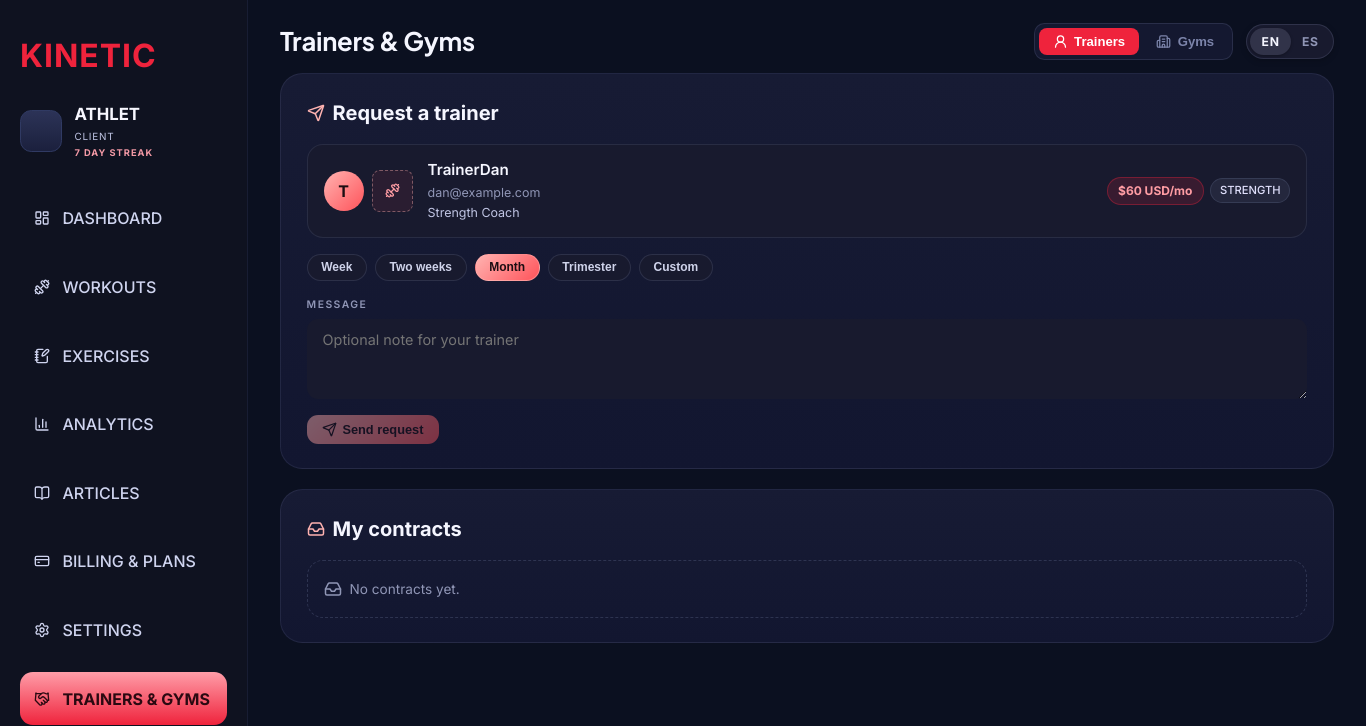
TrainersPage and ClientGymsSection › renders Trainers tab by default and allows switching to Gyms tab
Expected: the button with test id "trainers-tab" is shown, [1039, 28, 1139, 55]
Expected: the text "TrainerDan" is shown, [428, 160, 509, 179]
Note: Switch to Gyms tab
Step 1. Click the button with test id "gyms-tab" → click(1185, 42), box [1143, 28, 1228, 55]
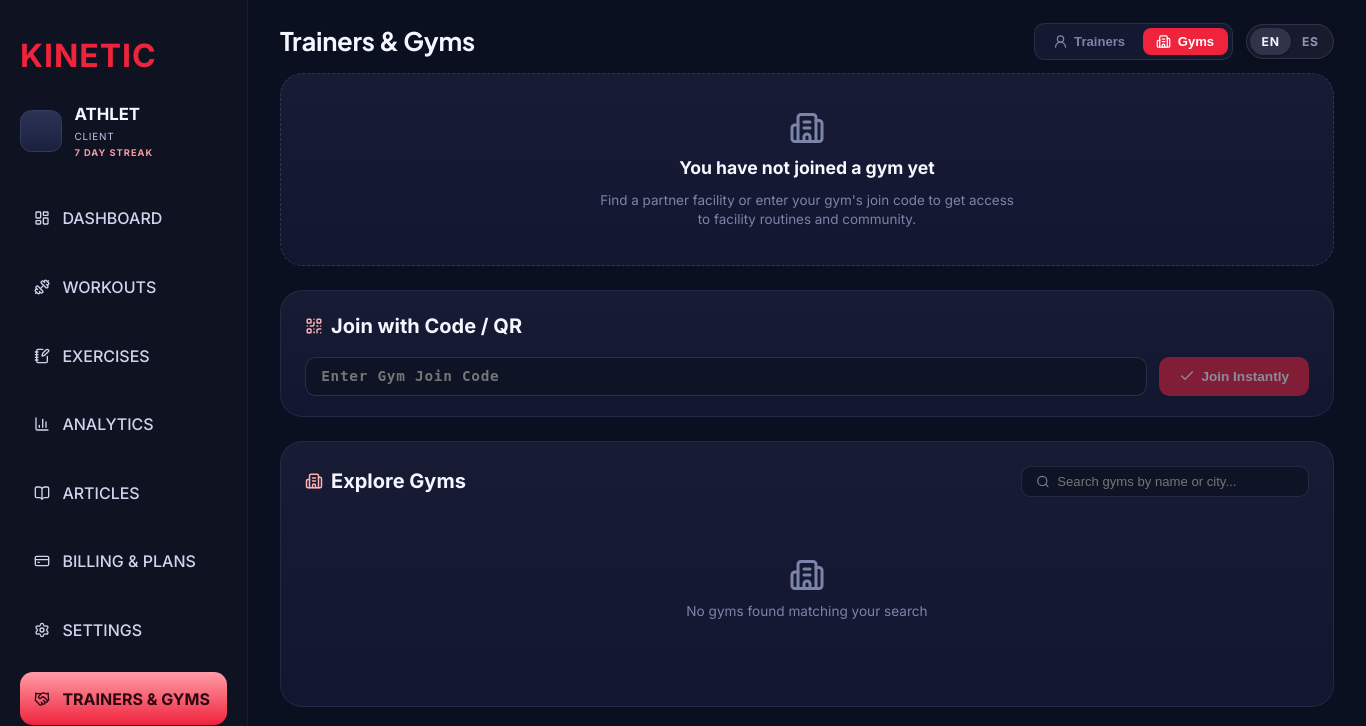
Expected: the element with test id "client-gyms-section" is shown
Expected: the element with test id "no-gym-joined-card" is shown, [280, 73, 1334, 266]
